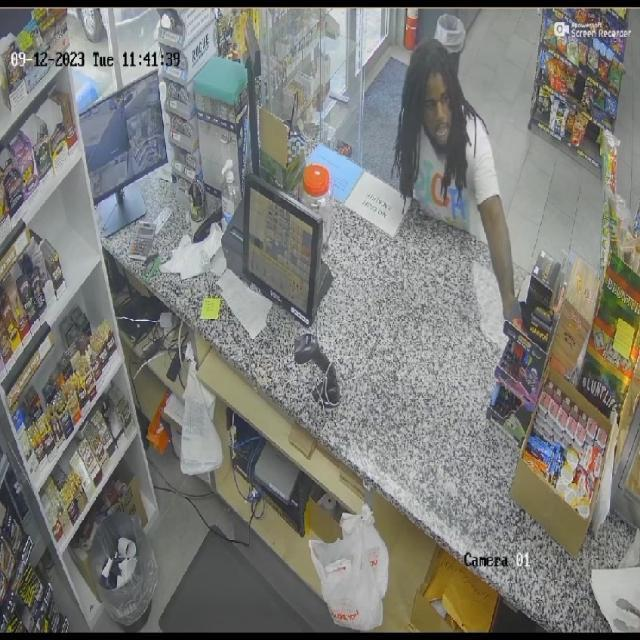normal: (386, 10, 538, 378)
